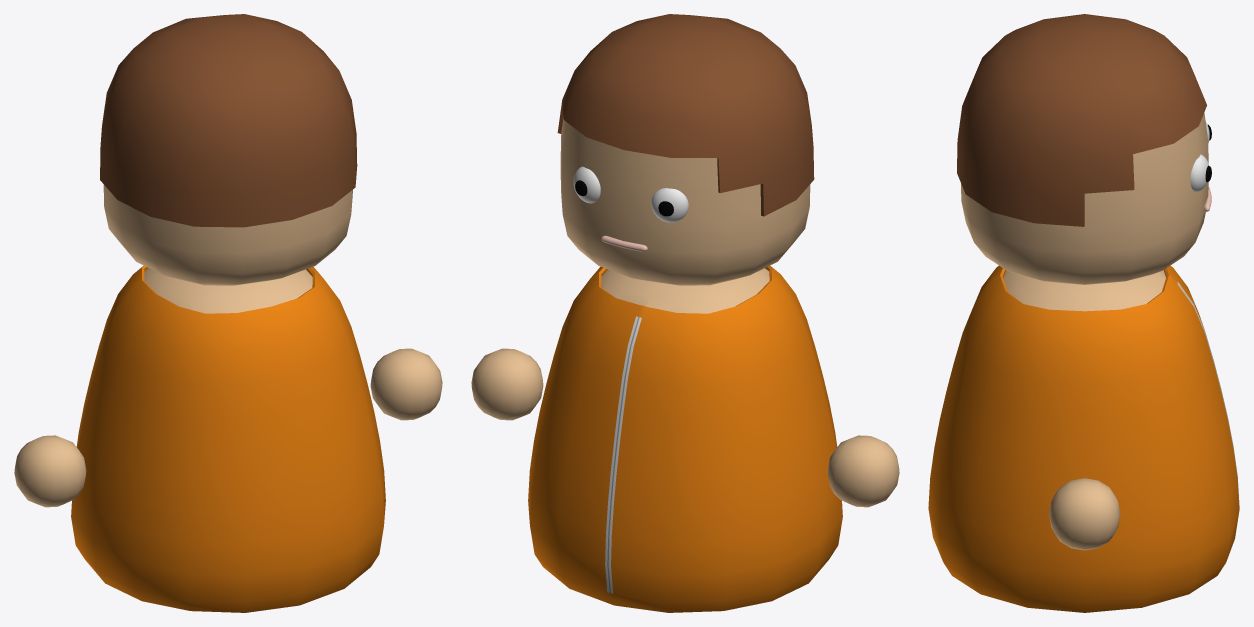
Rendered from prisoner.fbx.
3 views of the same model, side by side, from view 1: azimuth 30°, elevation 25°; view 2: azimuth 150°, elevation 25°; view 3: azimuth 270°, elevation 25° (orthographic).
Parts seen in each view (by area): view 1: Torso, Head, RightHand, LeftHand; view 2: Torso, Head, RightHand, LeftHand, Eyes; view 3: Torso, Head, RightHand, Eyes.
Part boxes in pixels (x1,y1,x2,y2): Torso: [71, 265, 385, 612]; Head: [100, 14, 357, 285]; RightHand: [370, 348, 442, 420]; LeftHand: [14, 435, 86, 507]; Torso: [528, 265, 842, 612]; Head: [557, 14, 814, 285]; RightHand: [471, 348, 543, 420]; LeftHand: [827, 435, 899, 507]; Eyes: [573, 166, 688, 222]; Torso: [928, 265, 1239, 612]; Head: [957, 14, 1208, 284]; RightHand: [1049, 478, 1120, 550]; Eyes: [1190, 121, 1211, 191].
Size of the model in its own units: 195 by 233 by 126.
